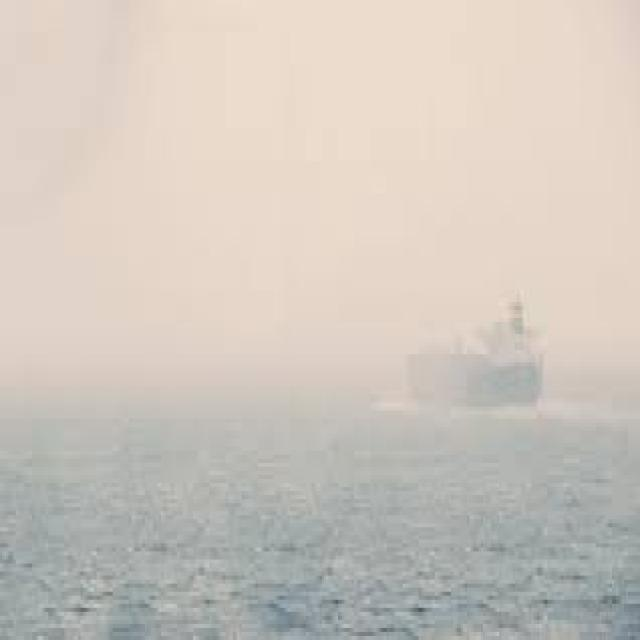cargoship: (410, 295, 547, 405)
